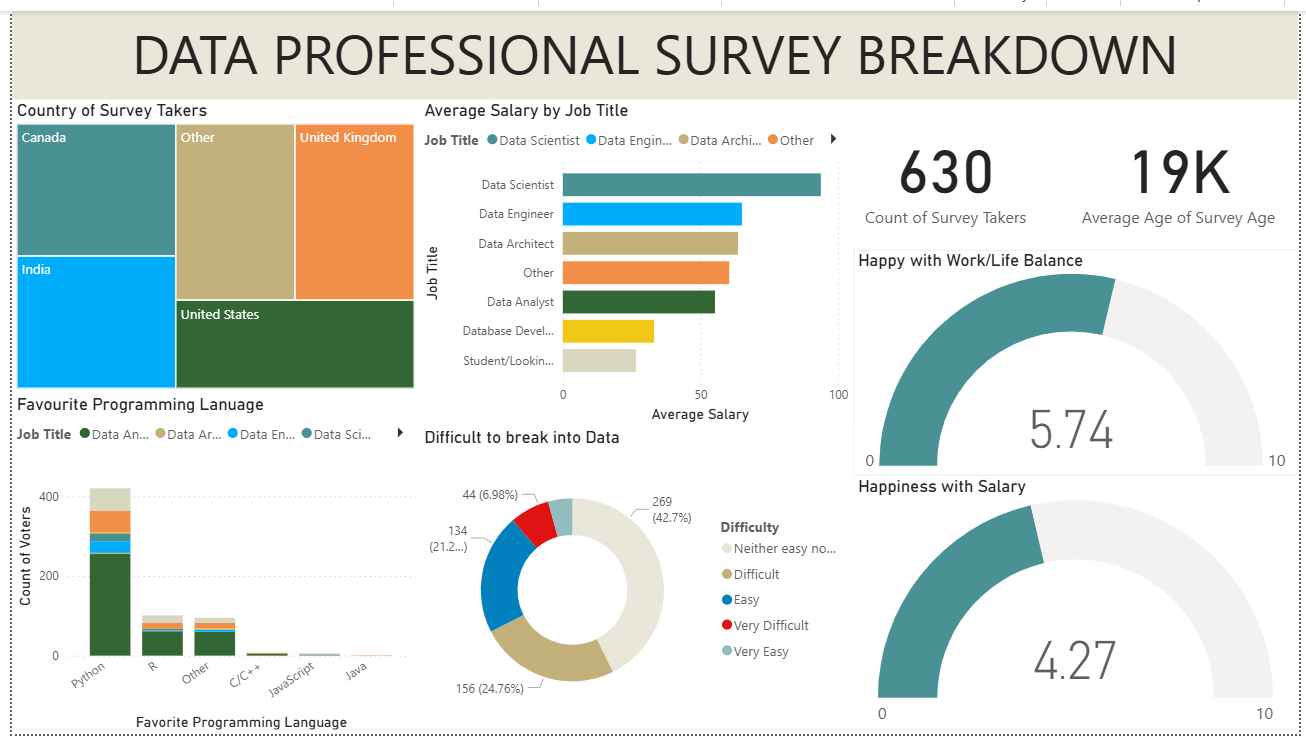

Layout of this report page (visuals, bound fields, positions):
{"tool":"powerbi","page":{"name":"Page 1","canvas":[1280,720],"ordinal":0},"visuals":[{"type":"card","fields":{"Values":["Count(Data Professional Survey.Unique ID)"]},"box":[816.5,87.8,226.4,149.6],"z":1000},{"type":"card","fields":{"Values":["Sum(Data Professional Survey.Q10 - Current Age)"]},"box":[1042.9,87.8,237.4,149.6],"z":2000},{"type":"barChart","title":"Average Salary by Job Title","fields":{"Category":["Data Professional Survey.Q1 - Which Title Best Fits your Current Role?.1"],"Y":["Avg(Data Professional Survey.Average Salary)"],"Series":["Data Professional Survey.Q1 - Which Title Best Fits your Current Role?.1"]},"box":[405.5,88.3,431.7,325.9],"z":3000},{"type":"columnChart","title":"Favourite Programming Lanuage","fields":{"Category":["Data Professional Survey.Q5 - Favorite Programming Language.1"],"Y":["CountNonNull(Data Professional Survey.Unique ID)"],"Series":["Data Professional Survey.Q1 - Which Title Best Fits your Current Role?.1"]},"box":[0,380.7,405.5,339.6],"z":4000},{"type":"treemap","title":"Country of Survey Takers","fields":{"Group":["Data Professional Survey.Q11 - Which Country do you live in?.1"],"Values":["Count(Data Professional Survey.Q11 - Which Country do you live in?.1)"]},"box":[0,88.3,405.5,292.3],"z":5000},{"type":"gauge","title":"Happy with Work/Life Balance","fields":{"Y":["Avg(Data Professional Survey.Q6 - How Happy are you in your Current Position with the following? (Work/Life Balance))"],"MinValue":["Min(Data Professional Survey.Q6 - How Happy are you in your Current Position with the following? (Work/Life Balance))"],"MaxValue":["Max(Data Professional Survey.Q6 - How Happy are you in your Current Position with the following? (Work/Life Balance))1"]},"box":[837.2,237.6,442.8,225.2],"z":6000},{"type":"gauge","title":"Happiness with Salary","fields":{"Y":["Avg(Data Professional Survey.Q6 - How Happy are you in your Current Position with the following? (Salary))"],"MinValue":["Min(Data Professional Survey.Q6 - How Happy are you in your Current Position with the following? (Salary))"],"MaxValue":["Max(Data Professional Survey.Q6 - How Happy are you in your Current Position with the following? (Salary))"]},"box":[837.2,462.8,442.8,257.5],"z":6001},{"type":"donutChart","title":"Difficult to break into Data","fields":{"Category":["Data Professional Survey.Q7 - How difficult was it for you to break into Data?"],"Y":["CountNonNull(Data Professional Survey.Q7 - How difficult was it for you to break into Data?)"]},"box":[405.5,414.2,431.7,304.8],"z":6002},{"type":"textbox","box":[0,0,1280,88.3],"z":6003}]}

Visuals, with their boxes in screenshot pixels (x1, y1, x2, y2), scaled from the page's 1280x720 canvas onto the 1306x741 screenshot:
card - Count(Data Professional Survey.Unique ID): [x1=833, y1=90, x2=1064, y2=244]
card - Sum(Data Professional Survey.Q10 - Current Age): [x1=1064, y1=90, x2=1305, y2=244]
"Average Salary by Job Title" barChart: [x1=414, y1=91, x2=854, y2=426]
"Favourite Programming Lanuage" columnChart: [x1=0, y1=392, x2=414, y2=740]
"Country of Survey Takers" treemap: [x1=0, y1=91, x2=414, y2=392]
"Happy with Work/Life Balance" gauge: [x1=854, y1=245, x2=1305, y2=476]
"Happiness with Salary" gauge: [x1=854, y1=476, x2=1305, y2=740]
"Difficult to break into Data" donutChart: [x1=414, y1=426, x2=854, y2=740]
textbox: [x1=0, y1=0, x2=1305, y2=91]
